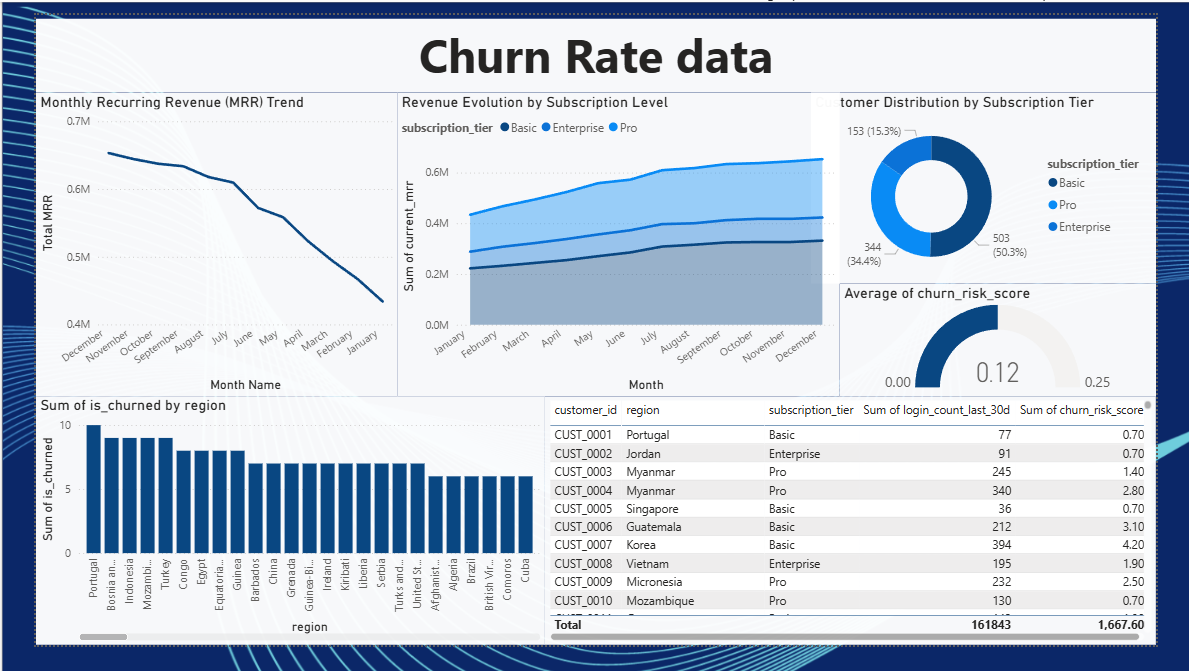

The page's visual inventory and layout, read from the dashboard file:
{"tool":"powerbi","page":{"name":"Page 1","canvas":[1280,720],"ordinal":0},"visuals":[{"type":"lineChart","title":"Monthly Recurring Revenue (MRR) Trend","fields":{"Y":["synthetic_churn_data.Total MRR"],"Category":["DimDate.Month Name"]},"box":[0,88.6,412.9,347.1],"z":0},{"type":"donutChart","title":"Customer Distribution by Subscription Tier","fields":{"Y":["synthetic_churn_data.Total Customers"],"Category":["synthetic_churn_data.subscription_tier"]},"box":[885.7,88.6,394.3,218.6],"z":1000},{"type":"gauge","fields":{"Y":["Avg(synthetic_churn_data.churn_risk_score)"]},"box":[918.6,307.1,361.4,128.6],"z":2000},{"type":"tableEx","fields":{"Values":["synthetic_churn_data.customer_id","synthetic_churn_data.region","synthetic_churn_data.subscription_tier","Sum(synthetic_churn_data.login_count_last_30d)","Sum(synthetic_churn_data.churn_risk_score)"]},"box":[581.4,435.7,698.6,284.3],"z":3000},{"type":"columnChart","fields":{"Category":["synthetic_churn_data.region"],"Y":["Sum(synthetic_churn_data.is_churned)"]},"box":[0,435.7,581.4,284.3],"z":4000},{"type":"textbox","box":[0,4.3,1280,84.3],"z":5000},{"type":"stackedAreaChart","title":"Revenue Evolution by Subscription Level","fields":{"Category":["synthetic_churn_data.snapshot_yearmonth.Variation.Date Hierarchy.Month","synthetic_churn_data.snapshot_yearmonth.Variation.Date Hierarchy.Day"],"Y":["Sum(synthetic_churn_data.current_mrr)"],"Series":["synthetic_churn_data.subscription_tier"]},"box":[412.9,88.6,505.7,347.1],"z":6000}]}

Visuals, with their boxes in screenshot pixels (x1, y1, x2, y2), scaled from the page's 1280x720 canvas onto the 1189x671 screenshot:
"Monthly Recurring Revenue (MRR) Trend" lineChart: pyautogui.locateOnScreen(0, 83, 384, 406)
"Customer Distribution by Subscription Tier" donutChart: pyautogui.locateOnScreen(823, 83, 1188, 286)
gauge - Avg(synthetic_churn_data.churn_risk_score): pyautogui.locateOnScreen(853, 286, 1188, 406)
tableEx - synthetic_churn_data.customer_id x synthetic_churn_data.region: pyautogui.locateOnScreen(540, 406, 1188, 670)
columnChart - synthetic_churn_data.region x Sum(synthetic_churn_data.is_churned): pyautogui.locateOnScreen(0, 406, 540, 670)
textbox: pyautogui.locateOnScreen(0, 4, 1188, 83)
"Revenue Evolution by Subscription Level" stackedAreaChart: pyautogui.locateOnScreen(384, 83, 853, 406)
